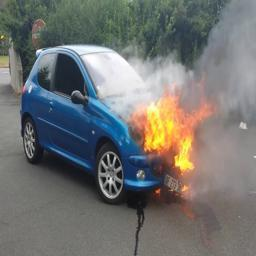fire: (134, 93, 217, 173)
